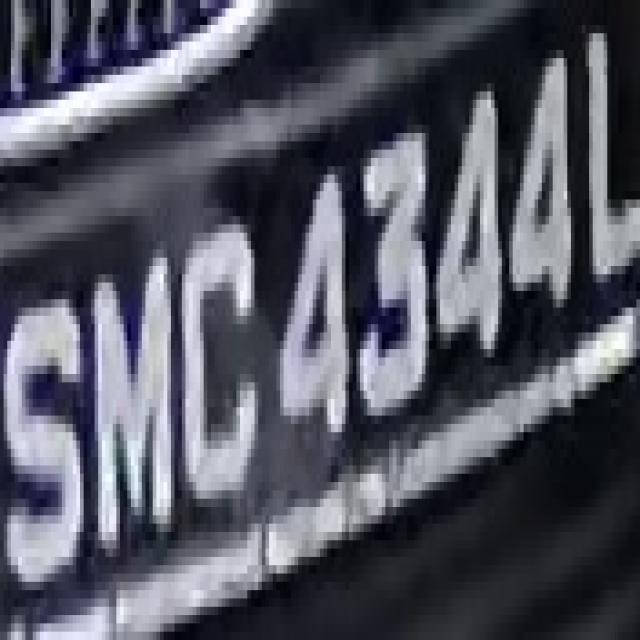3: (346, 83, 436, 457)
4: (262, 141, 364, 474), (498, 34, 582, 358), (426, 100, 509, 390)
C: (171, 199, 265, 532)
L: (578, 0, 636, 316)
M: (80, 232, 182, 548)
S: (11, 258, 84, 632)
